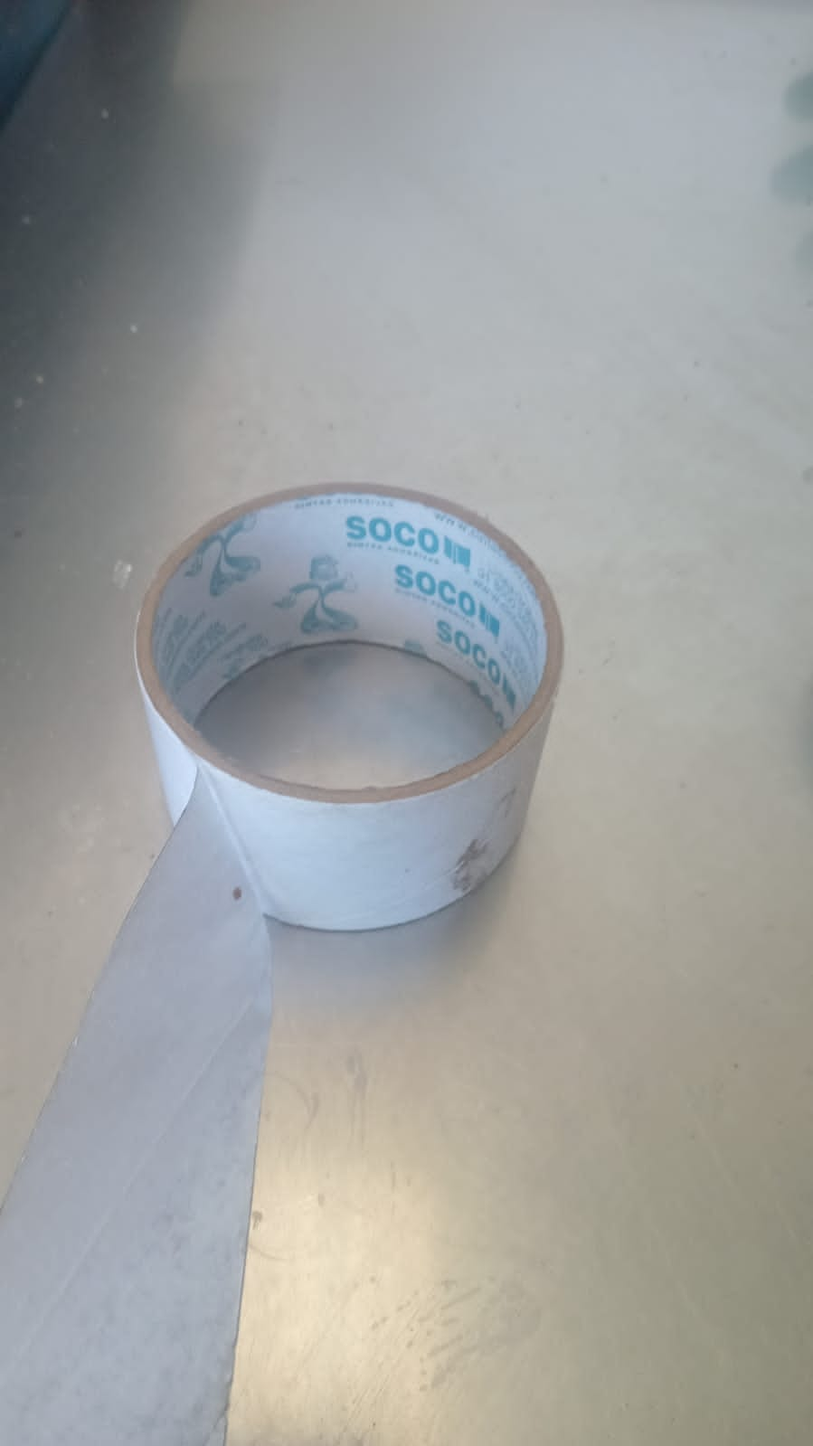Carton: (131, 480, 561, 932)
